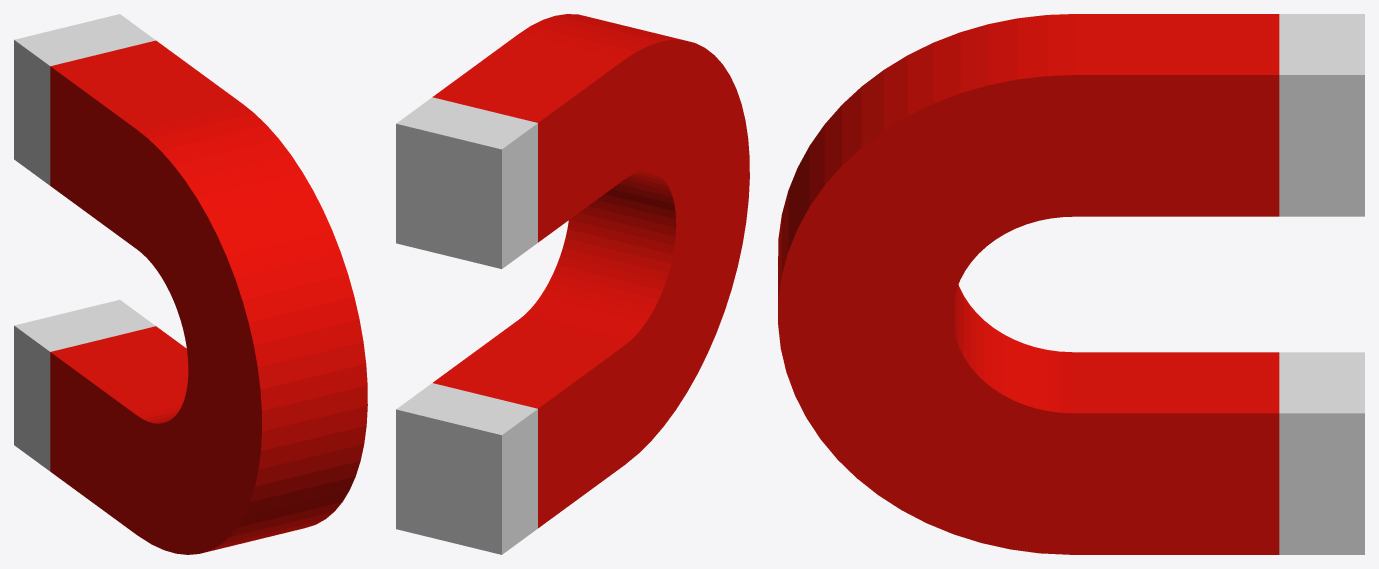
File: Iman.glb
The picture shows the model from 3 angles, left to right: view 1: azimuth 30°, elevation 25°; view 2: azimuth 150°, elevation 25°; view 3: azimuth 270°, elevation 25°; orthographic projection. The views are drawn at different scales.
Visible parts, largest first — view 1: Iman2; view 2: Iman2; view 3: Iman2.
Boxes of the visible parts, box(x1,y1,x2,y2) form: Iman2: box(14, 14, 367, 554); Iman2: box(396, 14, 749, 554); Iman2: box(778, 14, 1364, 554).
Size of the model in its own units: 0.1535 by 0.5619 by 0.6228.
